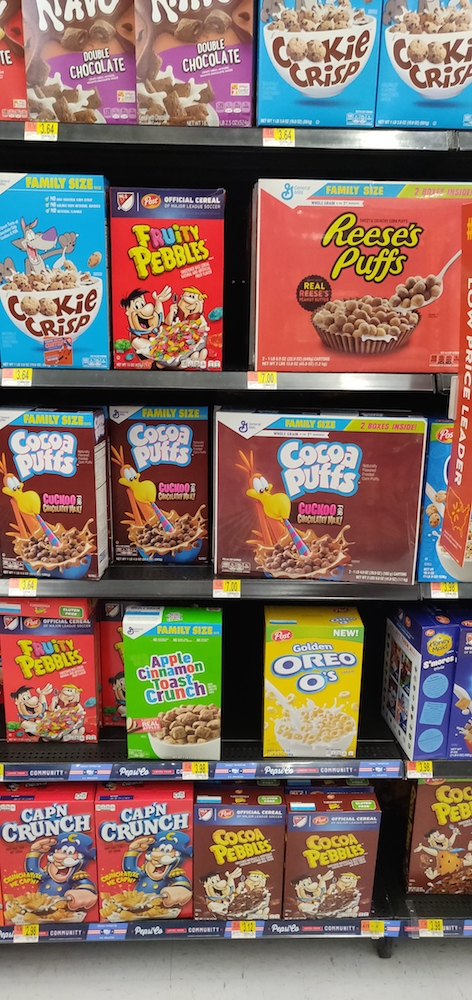Oreo Golden-568301011: (265, 616, 367, 760)
